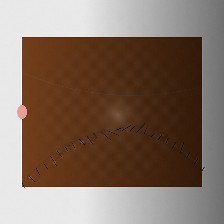hemorrhage_spot: (85, 71, 178, 145)
